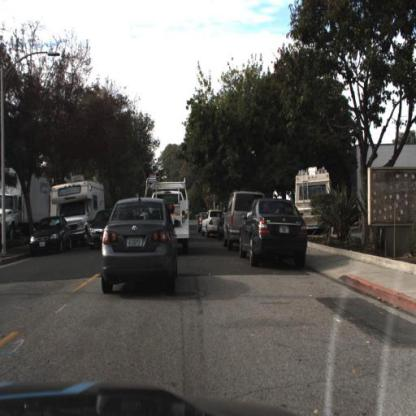car: (101, 198, 180, 295), (241, 201, 311, 269), (140, 174, 191, 252), (294, 163, 334, 240), (223, 193, 266, 253), (50, 181, 106, 225), (27, 213, 72, 261), (88, 206, 116, 252), (202, 206, 227, 240)
truck: (47, 177, 104, 248), (1, 160, 50, 237), (297, 172, 339, 247), (151, 185, 194, 255)
